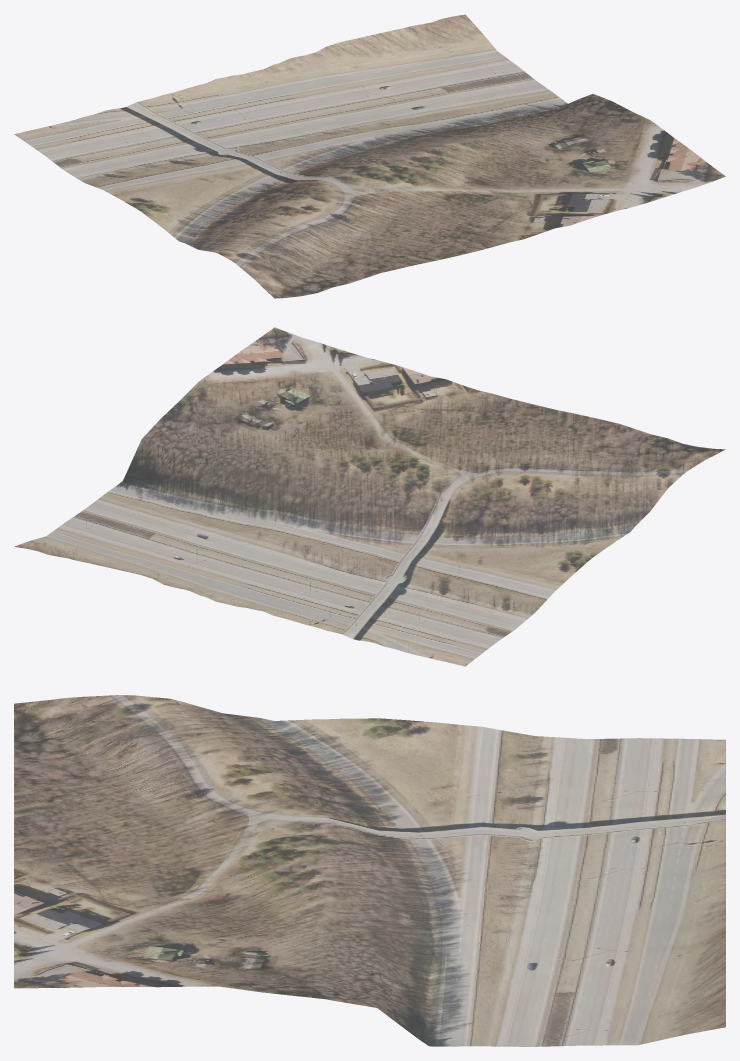
Rendered from CM_Terrain_24491687_6817746.fbx.
The picture shows the model from 3 angles, top to bottom: view 1: azimuth 30°, elevation 25°; view 2: azimuth 150°, elevation 25°; view 3: azimuth 270°, elevation 25°; orthographic projection. The views are drawn at different scales.
Parts seen in each view (by area): view 1: CM_Terrain_24491687_6817746_LOD0; view 2: CM_Terrain_24491687_6817746_LOD0; view 3: CM_Terrain_24491687_6817746_LOD0.
Boxes of the visible parts, <box> form: CM_Terrain_24491687_6817746_LOD0: <box>14,14,725,298</box>; CM_Terrain_24491687_6817746_LOD0: <box>14,327,725,666</box>; CM_Terrain_24491687_6817746_LOD0: <box>14,695,725,1046</box>.
Size of what is drawn, in the model's own units: 205 by 19.14 by 205.
